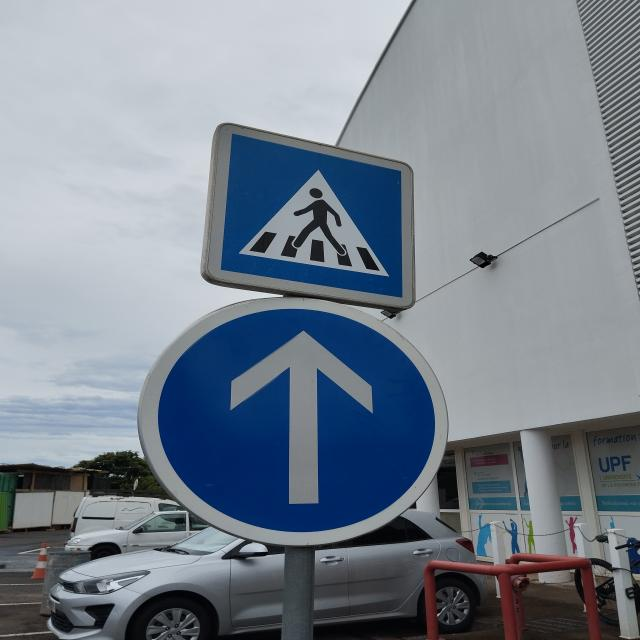Passage-pieton: (207, 115, 419, 312)
Sens-Unique: (138, 292, 452, 547)
